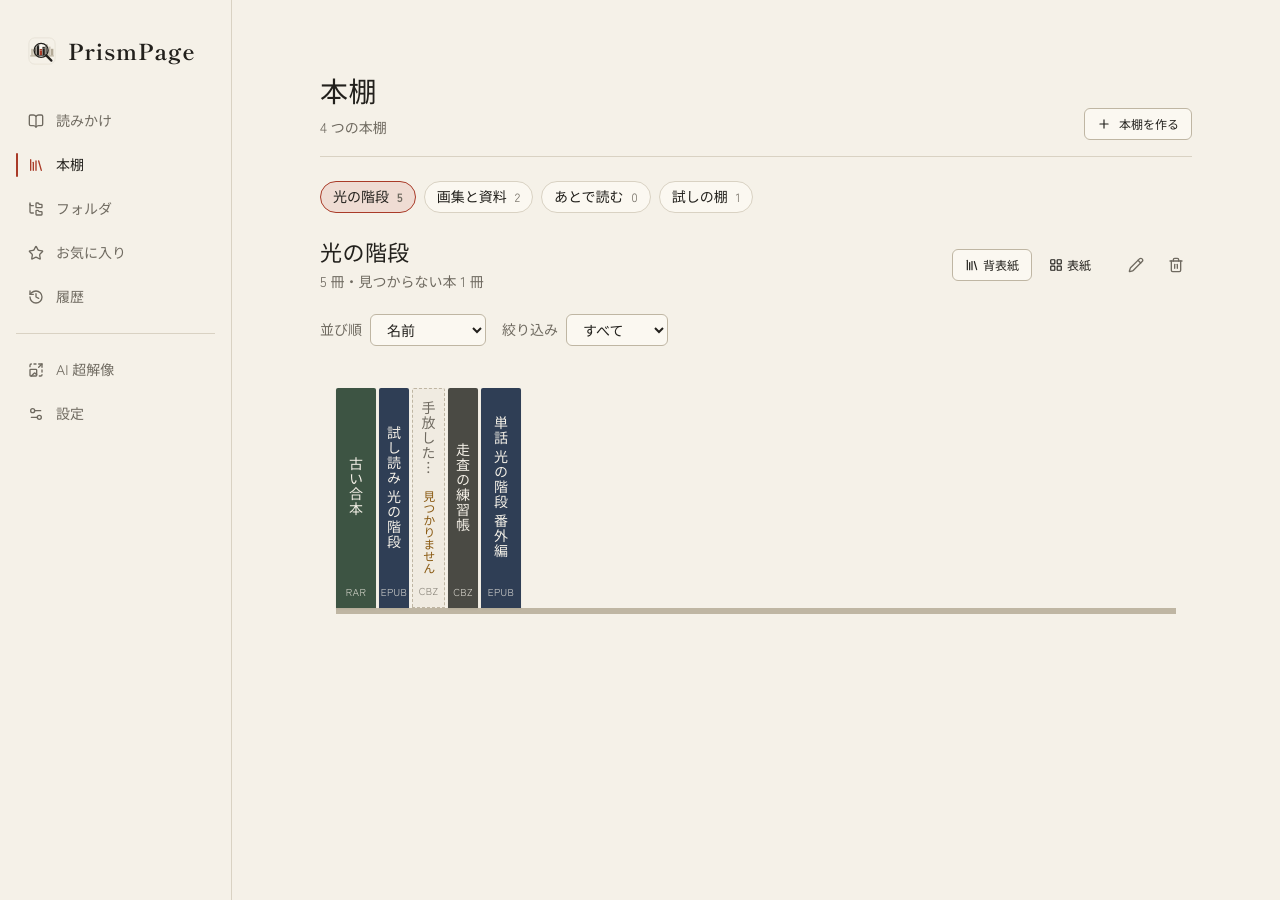
本棚 › 見つからない本も棚に残して「見つかりません」と見せ、背表紙と表紙を切り替えられる
This screenshot has width=1280, height=900.
Click the button "表紙". click: (1070, 265)
box: top-left (1036, 249), bottom-right (1104, 281)
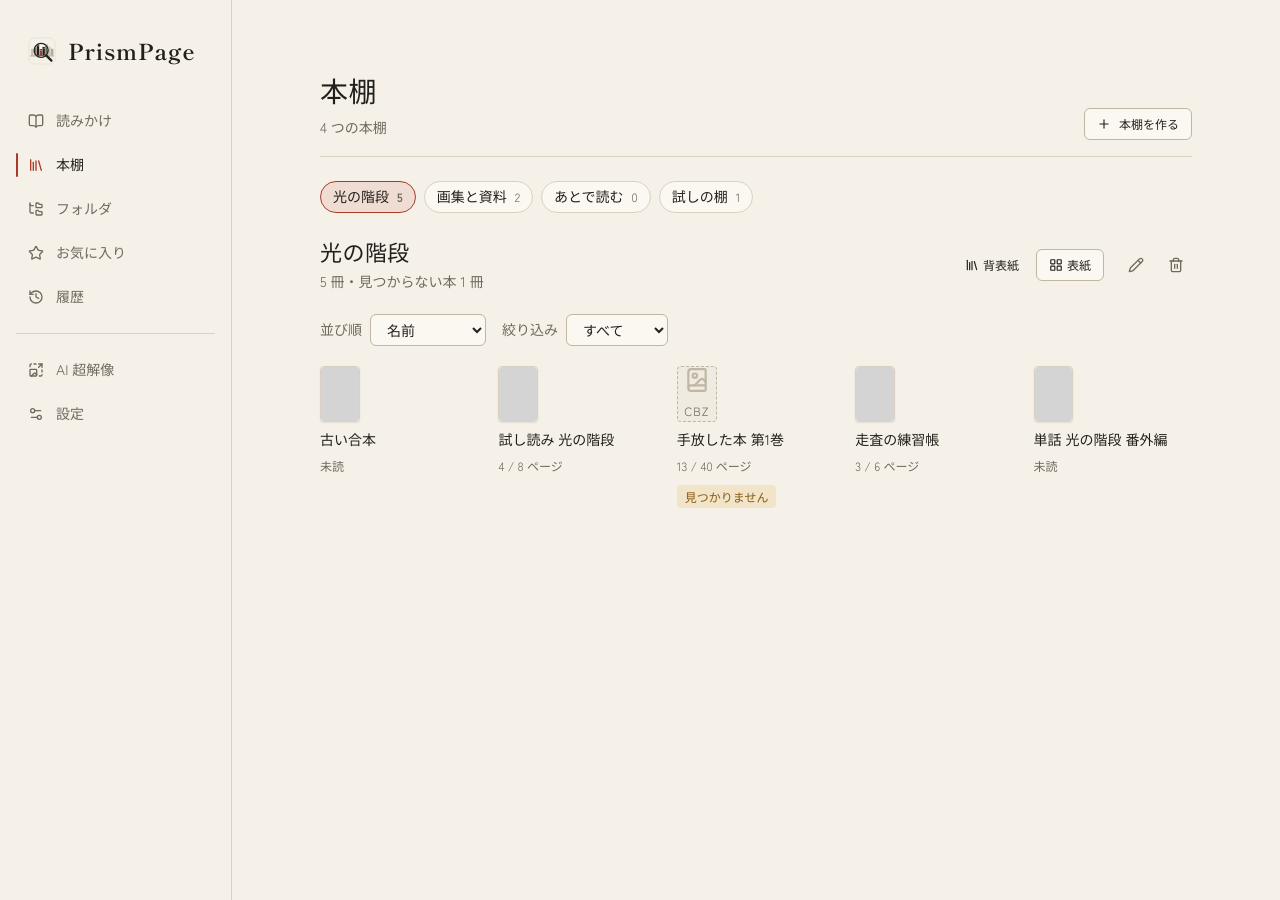
Expected: the text "見つかりません" is shown, top-left (677, 484), bottom-right (776, 508)
Result: the list "本(背表紙)" is gone
